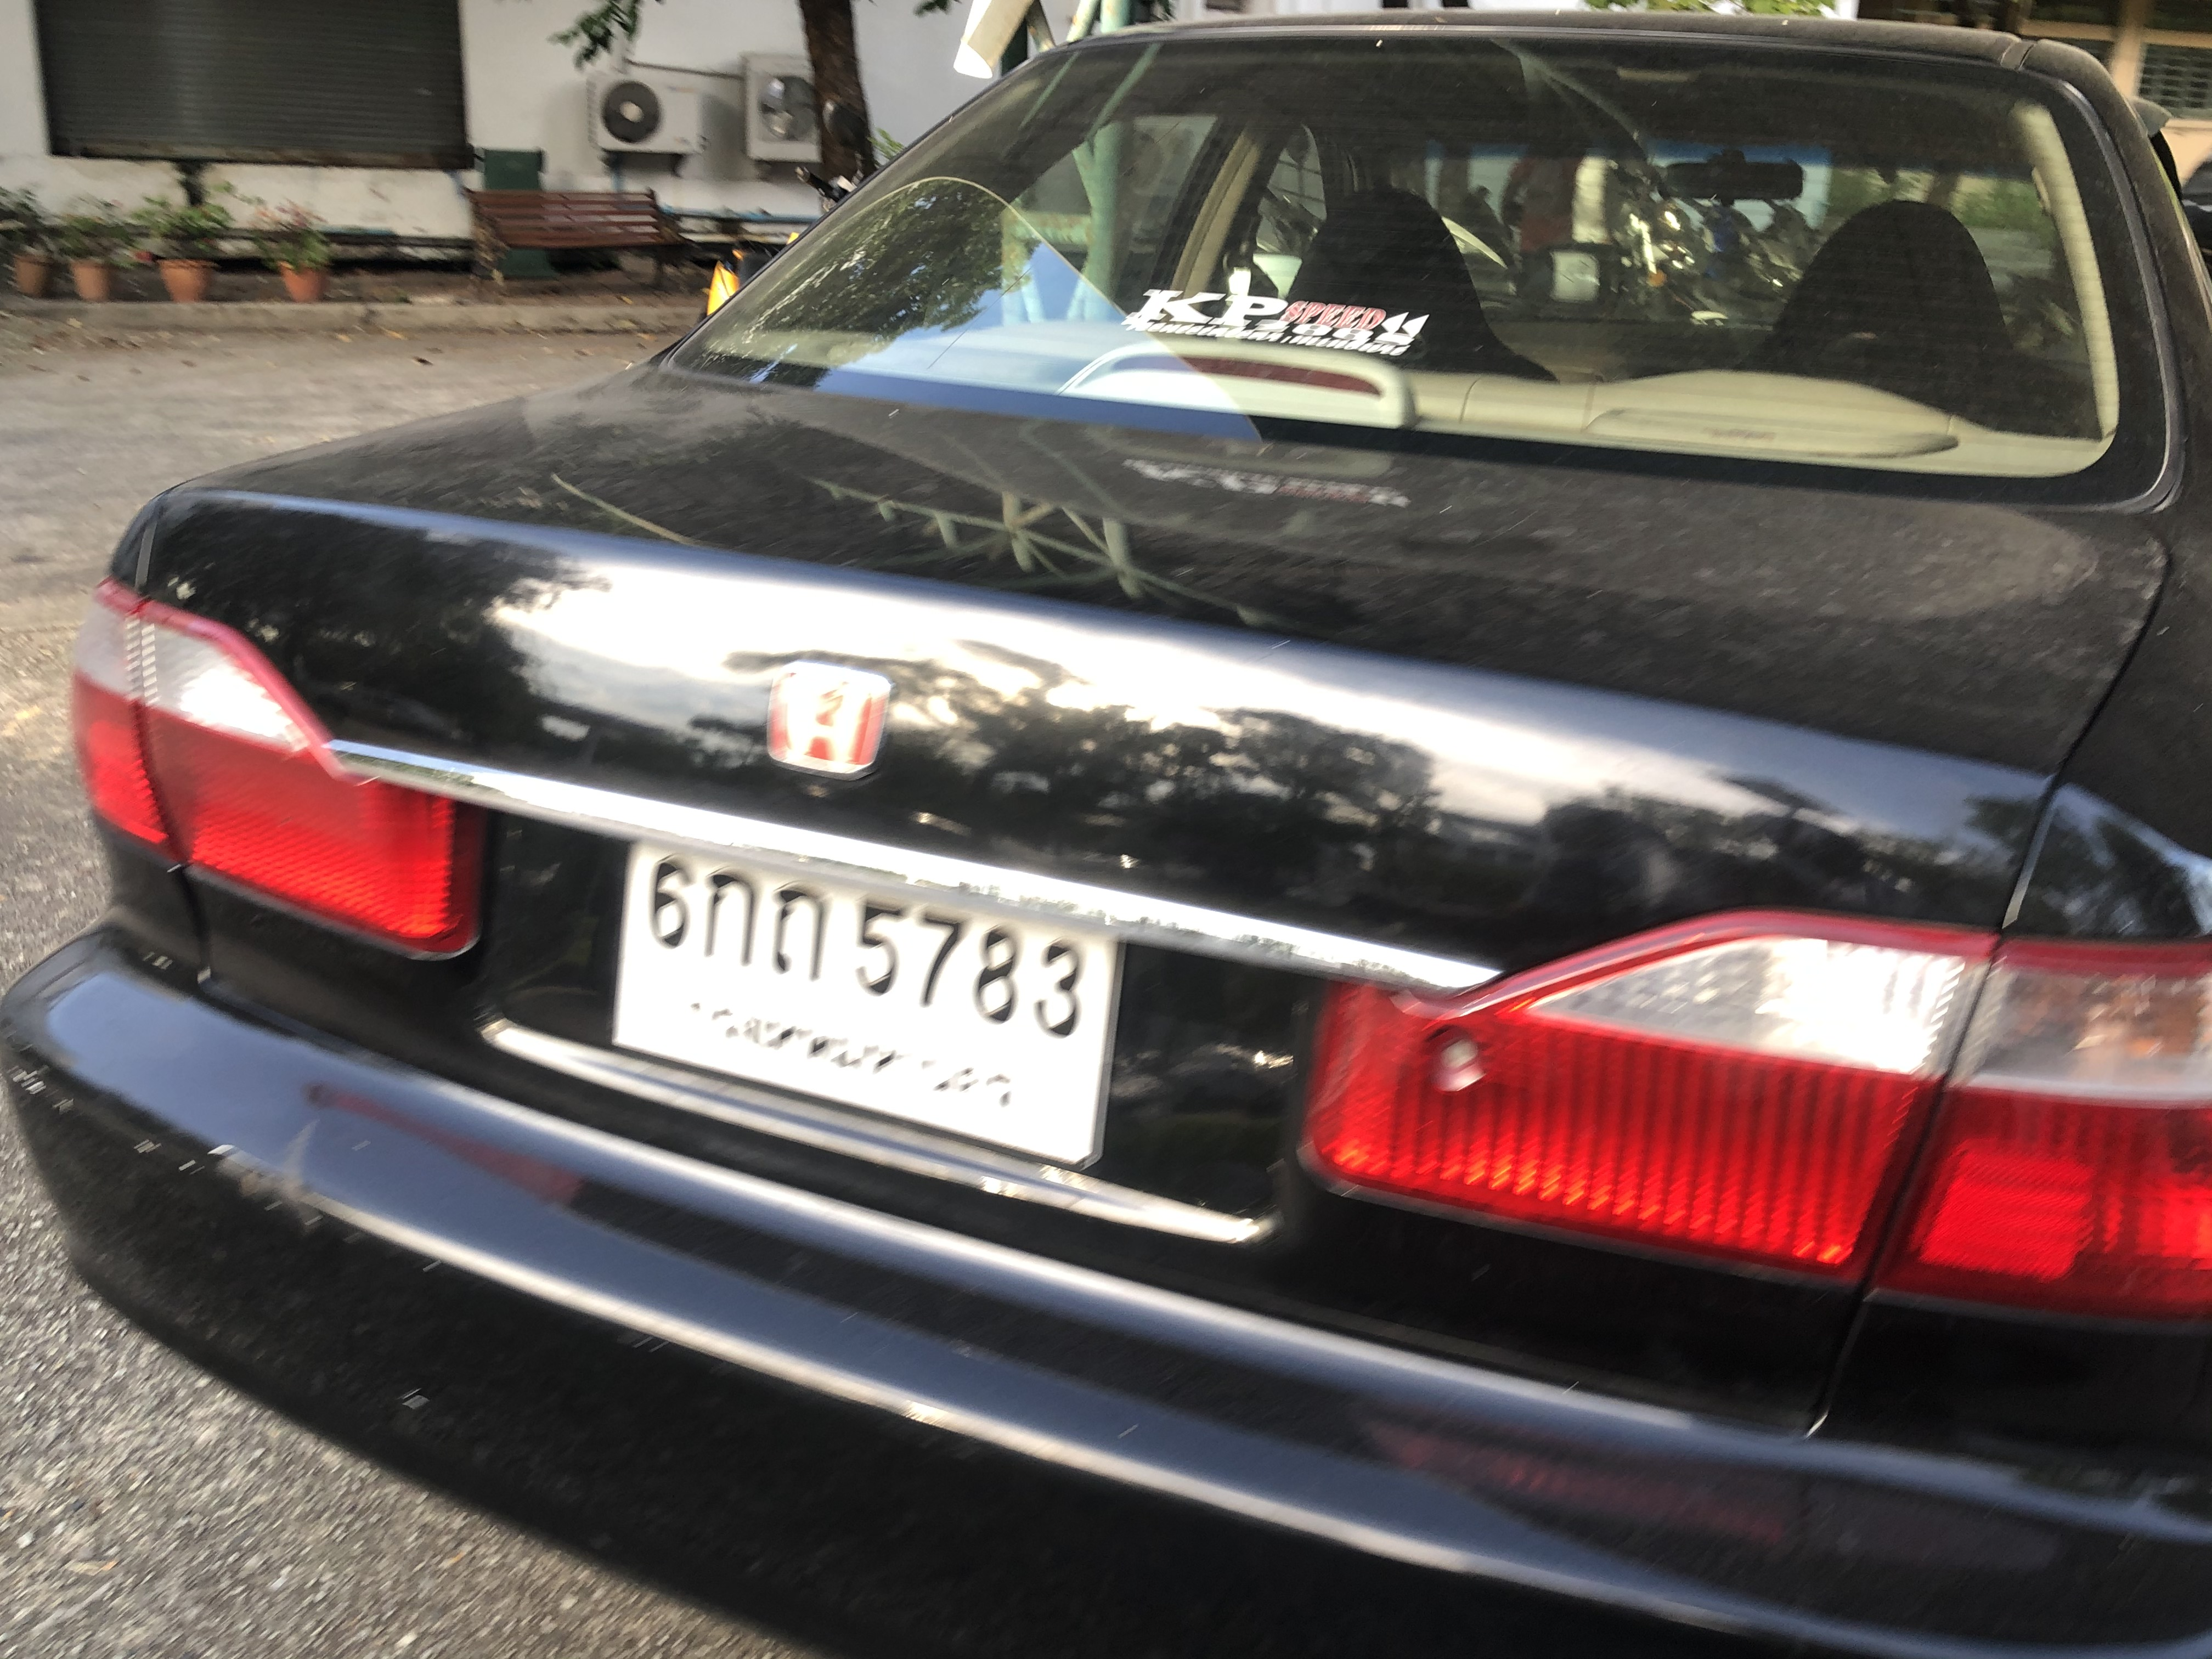in: (615, 838, 1111, 1162)
